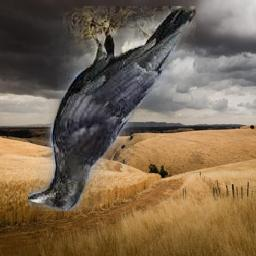Crow: (28, 7, 196, 212)
